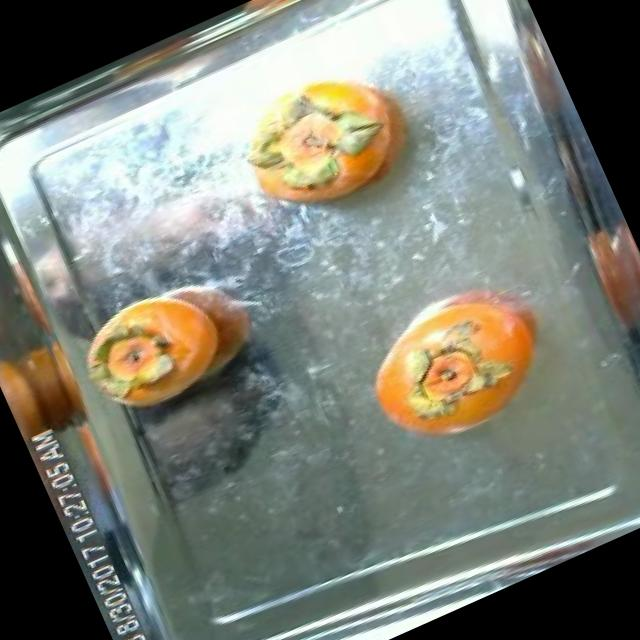Fruit: (60, 250, 289, 446), (212, 70, 373, 228), (0, 323, 97, 455)
